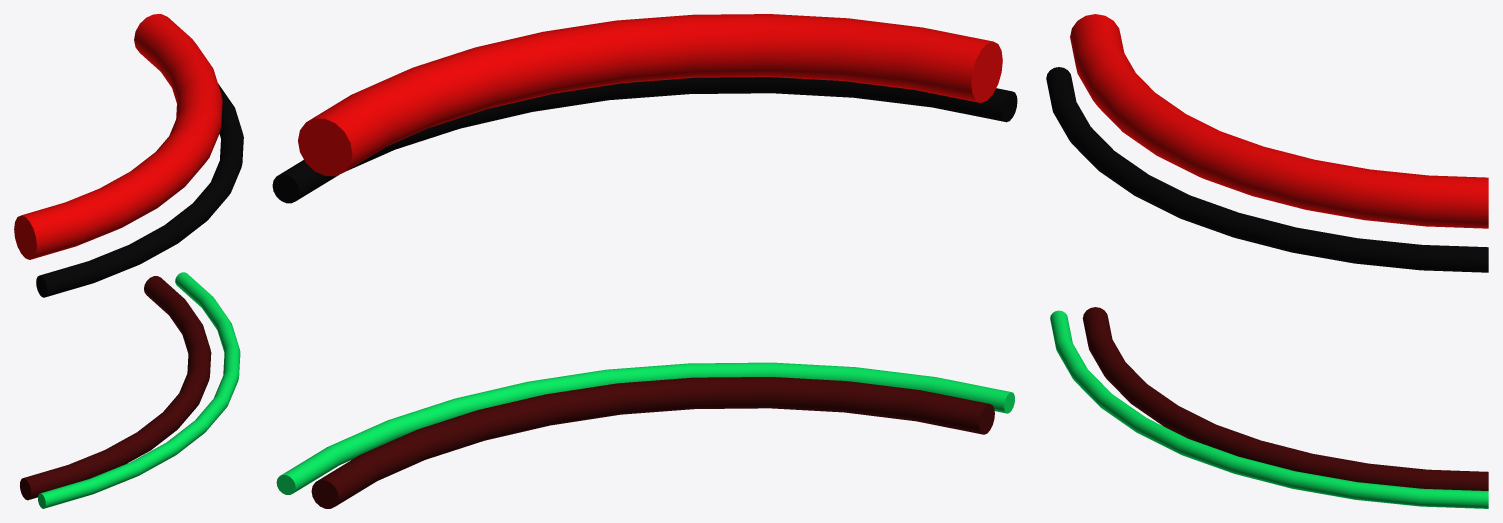
Rendered from Scifi2_WallA_Pipe_CornerOut.fbx.
3 views of the same model, side by side, from view 1: azimuth 30°, elevation 25°; view 2: azimuth 150°, elevation 25°; view 3: azimuth 270°, elevation 25° (orthographic). The views are drawn at different scales.
Parts seen in each view (by area): view 1: WallPipe_CornerOut; view 2: WallPipe_CornerOut; view 3: WallPipe_CornerOut.
Part boxes in pixels (<box>): WallPipe_CornerOut: <box>14,14,243,508</box>; WallPipe_CornerOut: <box>272,14,1017,508</box>; WallPipe_CornerOut: <box>1046,14,1488,508</box>.
Size of the model in its own units: 484 by 382 by 484.
